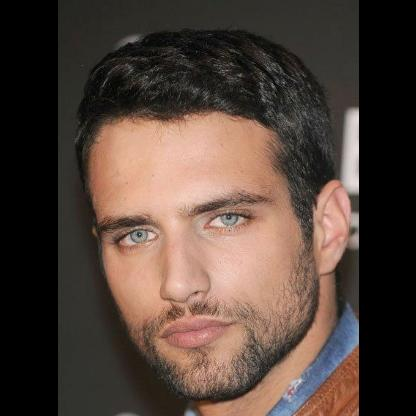Male: (84, 110, 350, 402)
